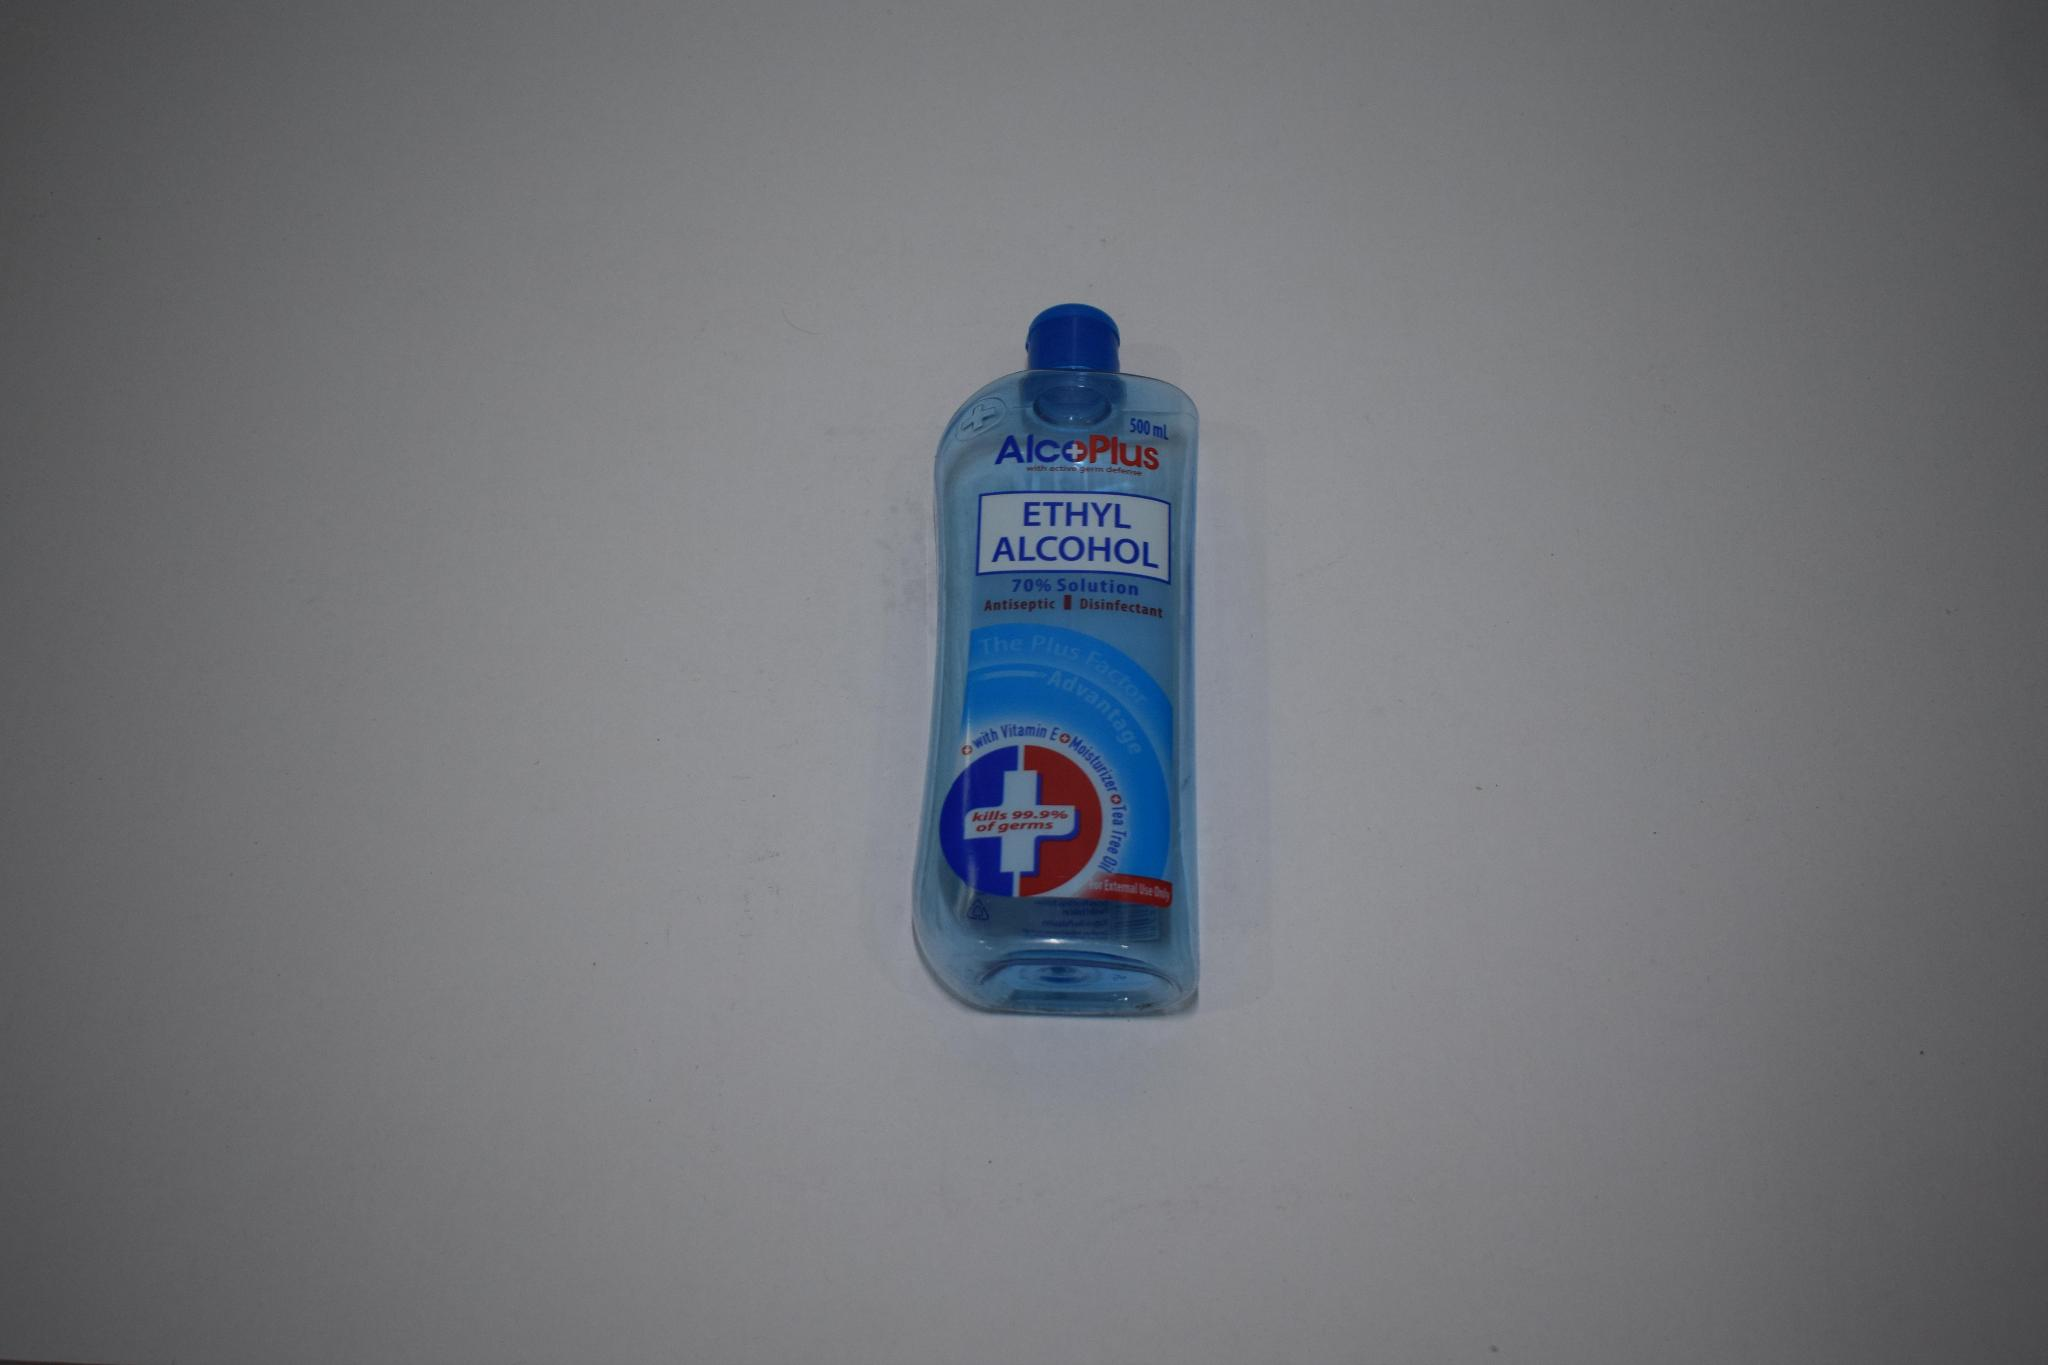bottle: (921, 291, 1212, 1028)
